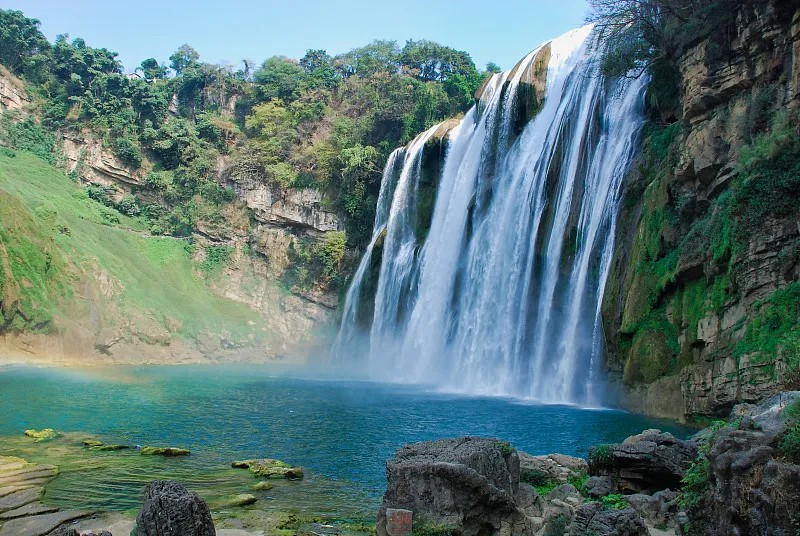Huangguoshu: (334, 19, 648, 406)
